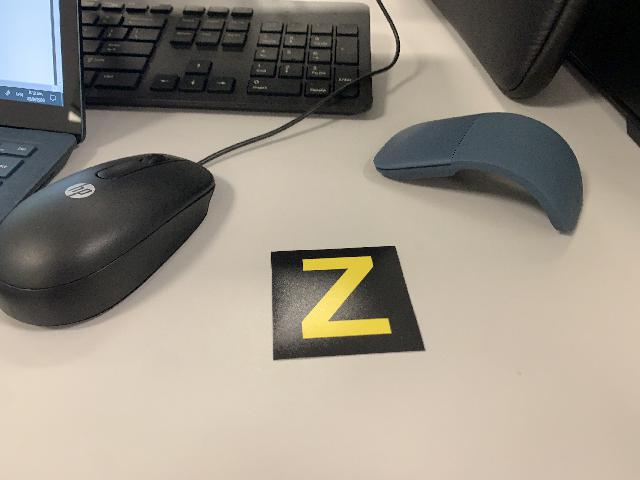alphabet_z: (269, 244, 427, 362)
